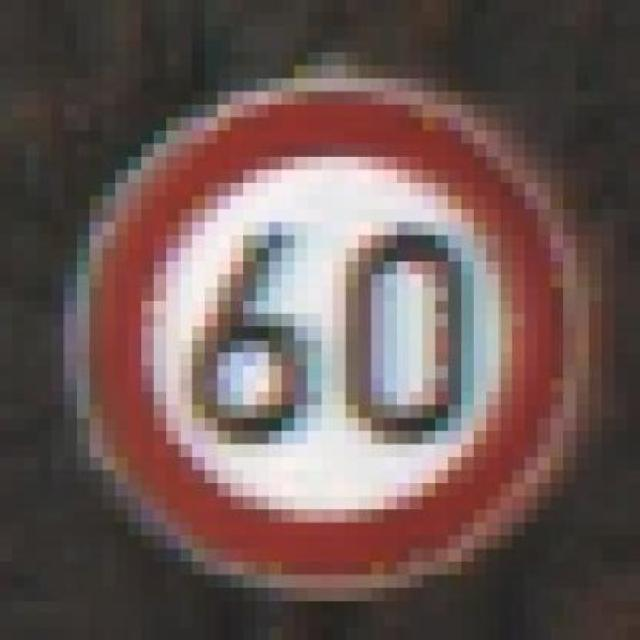forb_speed_over_60: (91, 92, 558, 583)
